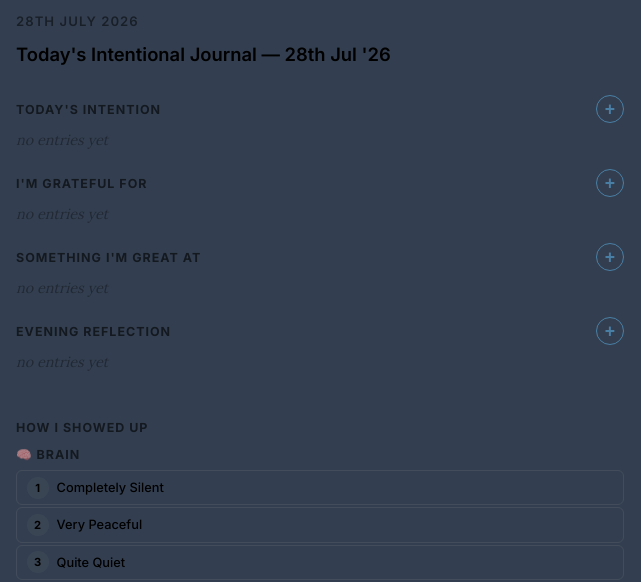
Scenario: /today — failures never lose writing › keeps the text on screen when adding an entry fails
The image size is (641, 582).
Step 1. Click the 1st button "+" → (610, 109), box [596,95,624,123]
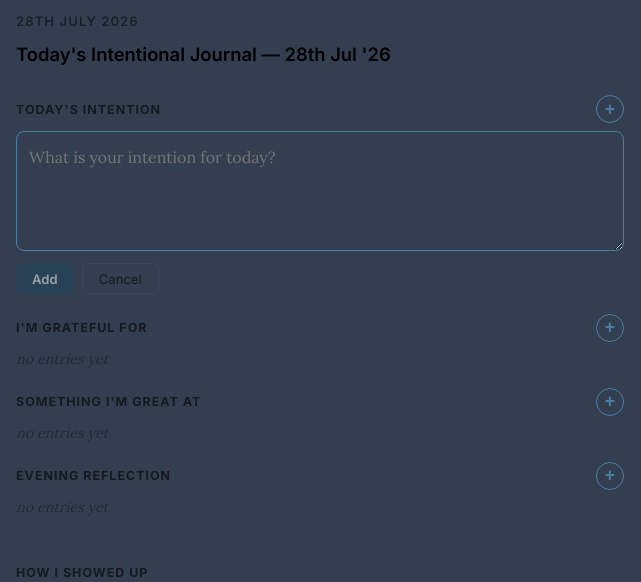
Step 2. Type "Writing that must not vanish." into the text box with placeholder "What is your intention for today?" → (320, 191), box [16,131,624,251]
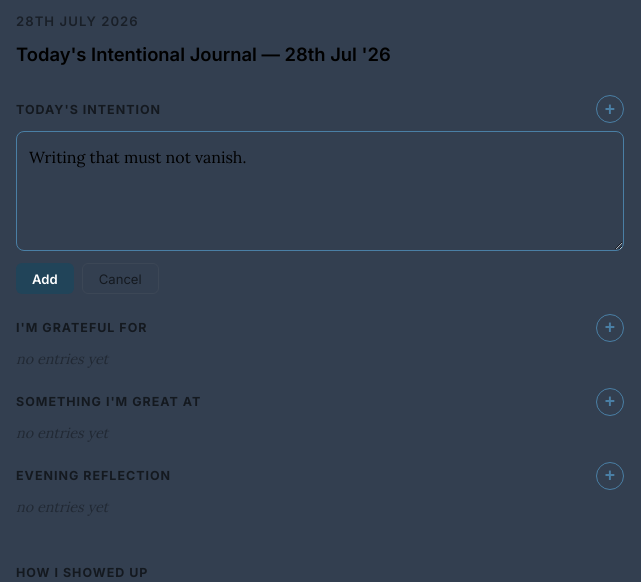
Step 3. Click the button "Add" → (45, 279), box [16,263,74,294]
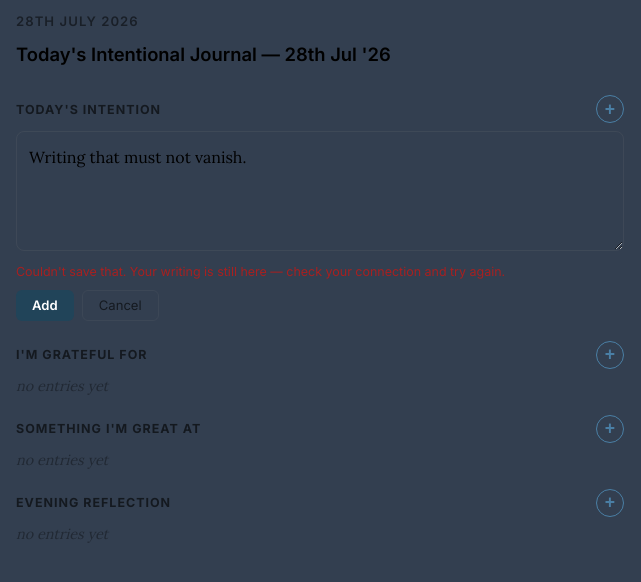
Result: the text "Couldn't save that" is shown at [16,264,505,279]
